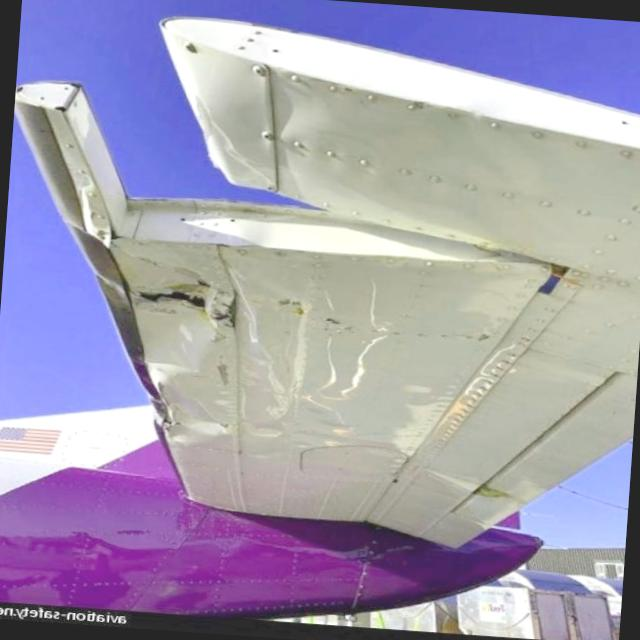dent: (162, 398, 221, 444)
